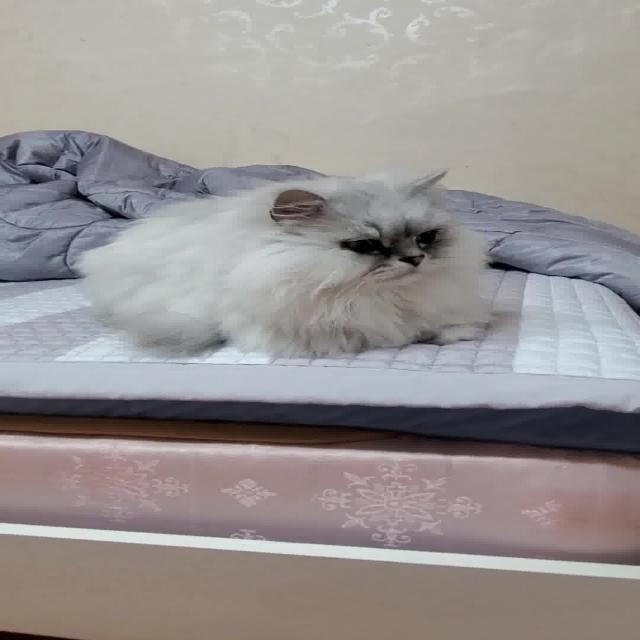cat: (61, 162, 522, 364)
